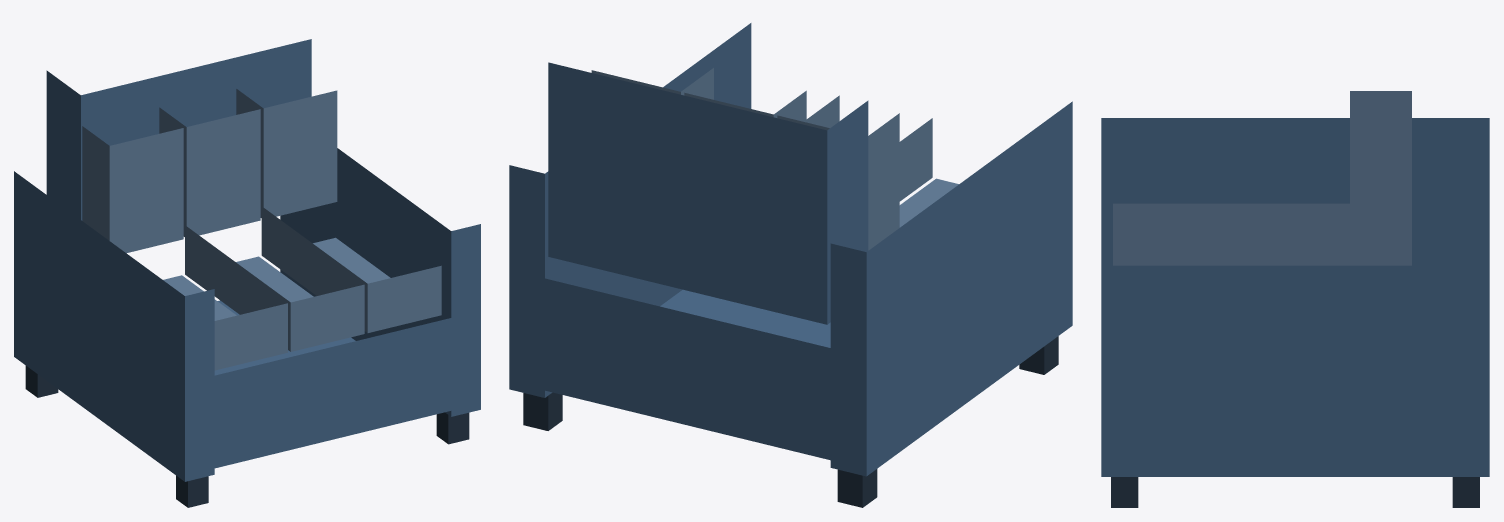
Rendered from Sofa-blue.glb.
The picture shows the model from 3 angles, left to right: view 1: azimuth 30°, elevation 25°; view 2: azimuth 150°, elevation 25°; view 3: azimuth 270°, elevation 25°; orthographic projection. The views are drawn at different scales.
Parts seen in each view (by area): view 1: Sofa; view 2: Sofa; view 3: Sofa.
Part boxes in pixels (<box>): Sofa: <box>14,39,480,507</box>; Sofa: <box>509,23,1072,507</box>; Sofa: <box>1101,91,1489,507</box>.
Bounding box in the file's own units: 1 × 1 × 1.
